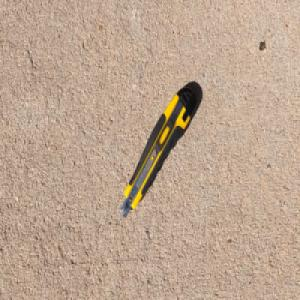Cutter: (119, 84, 198, 219)
